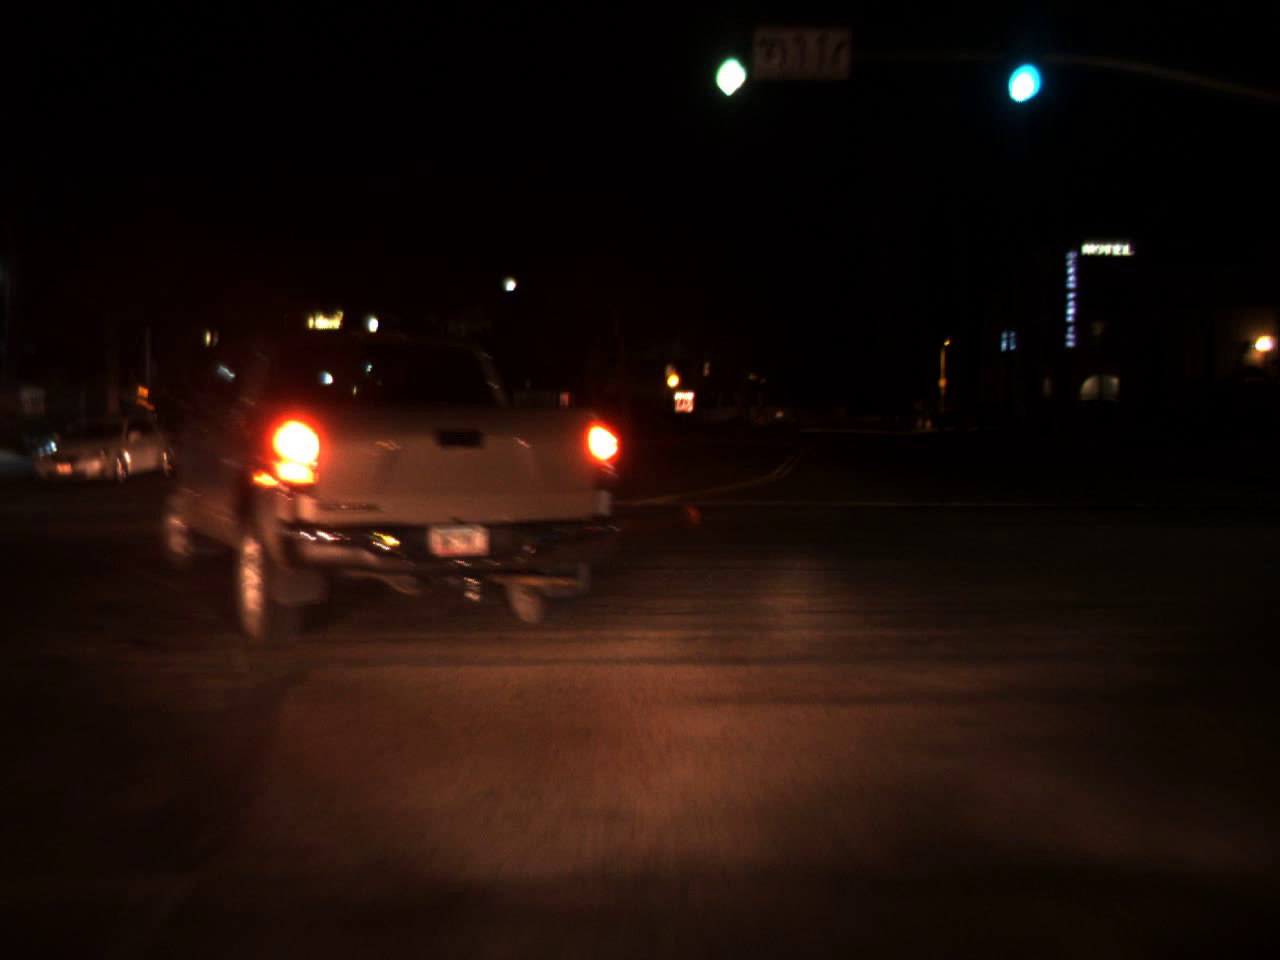go: (1001, 35, 1035, 113), (703, 34, 749, 91)
